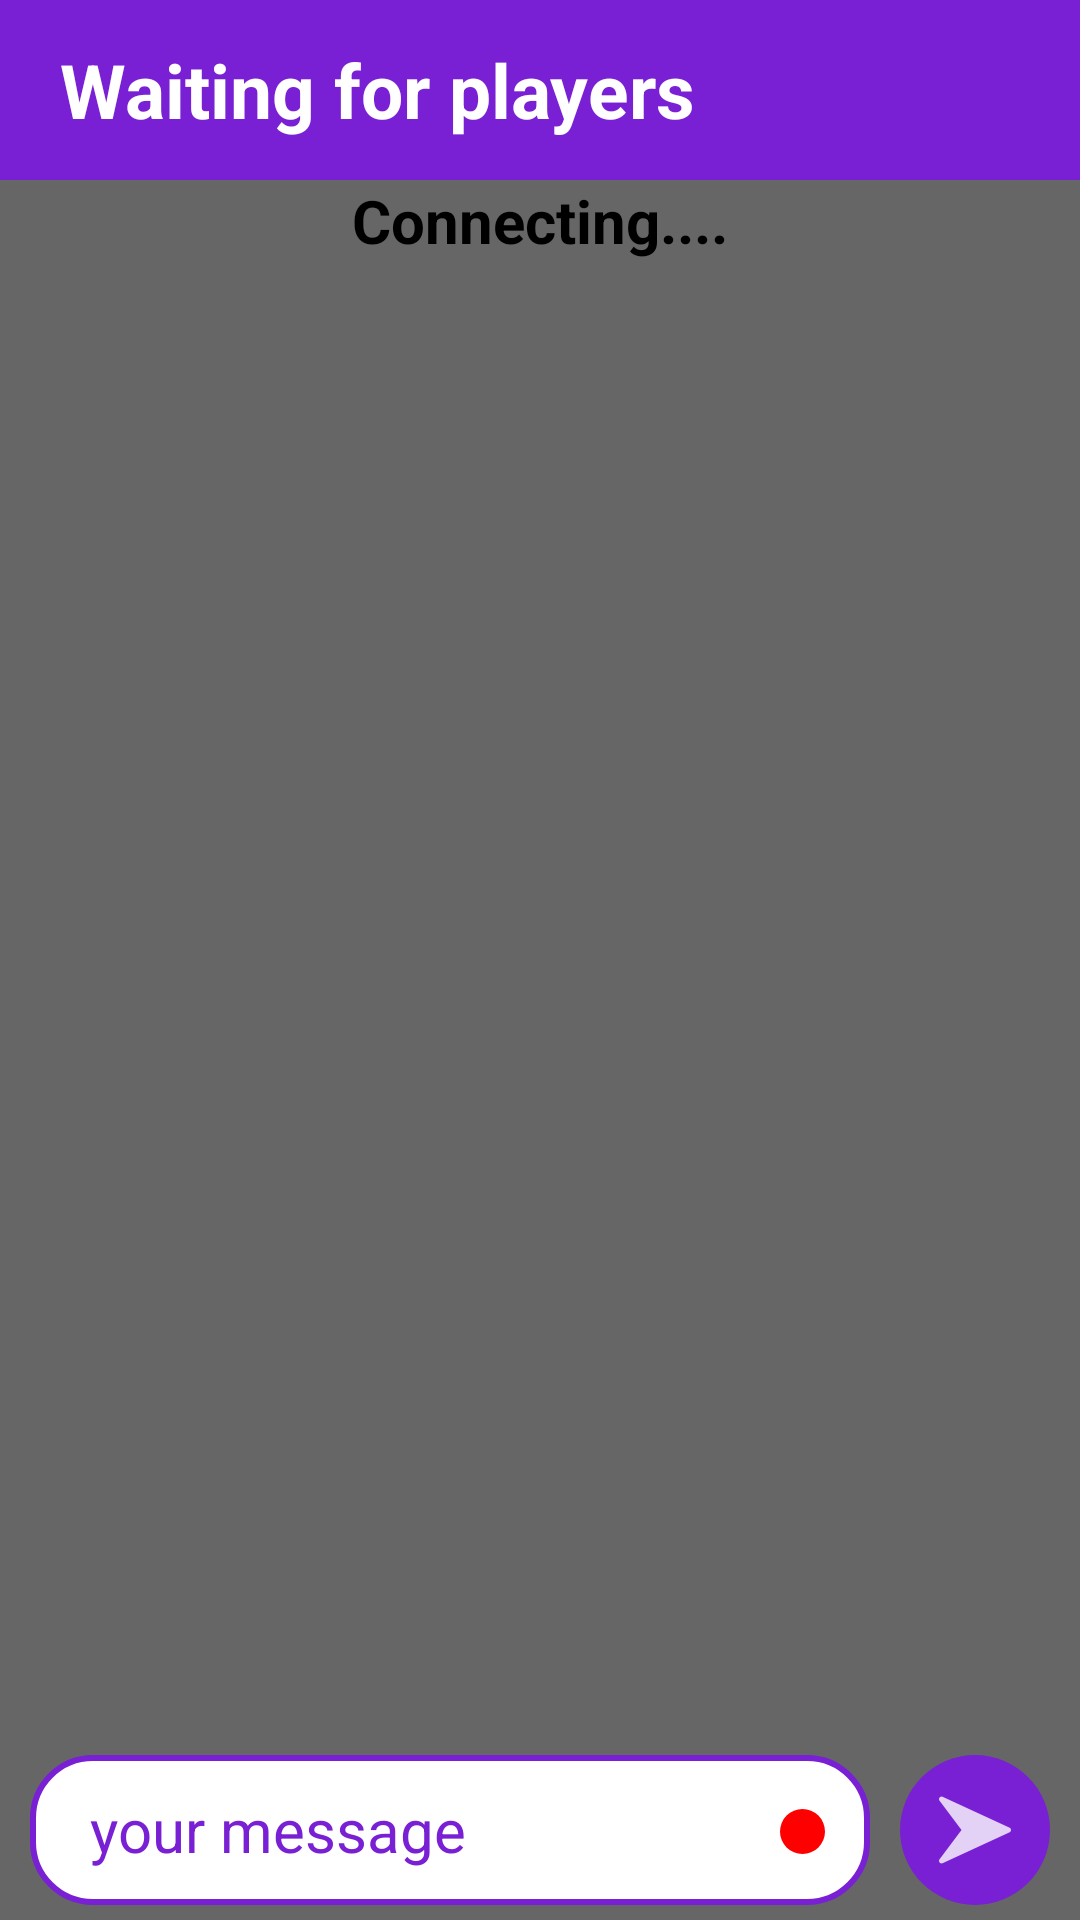

Icons on this 1080 × 1920 Android screen, each with the point to tap as [x,y]:
send: [975,1830]
